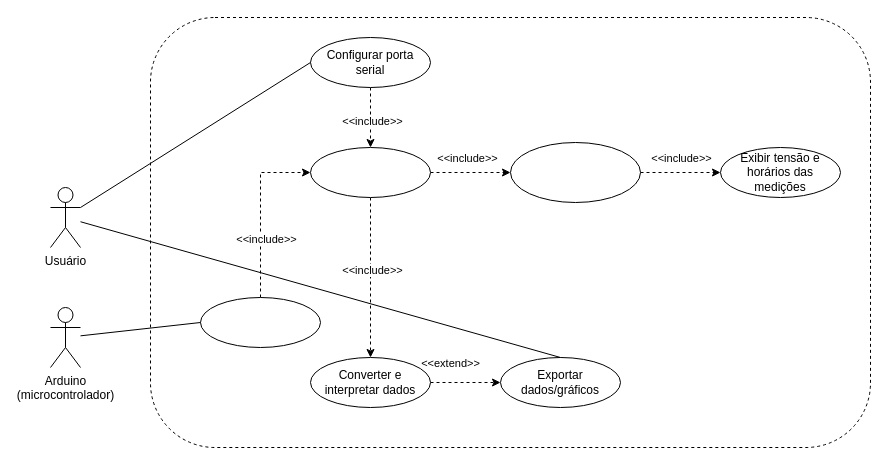
The diagram is 888 pixels wide and 465 high, and some of its shapes have lost their labels. The centre of each missing label's shape, as x and y in pixels:
"Iniciar monitoramento" goes at (x=370, y=172).
"Recebe tensão analógica e envia por serial" goes at (x=260, y=322).
"Visualizar gráfico em tempo real" goes at (x=575, y=172).
